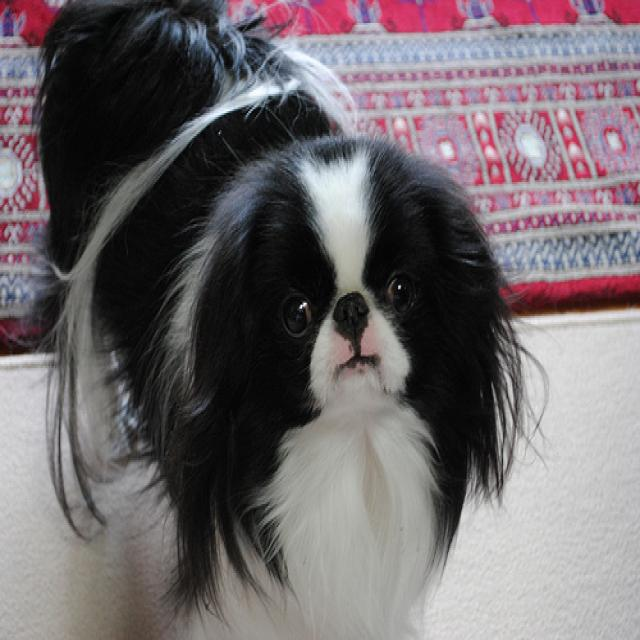dog-japanese_chin: (27, 2, 557, 636)
